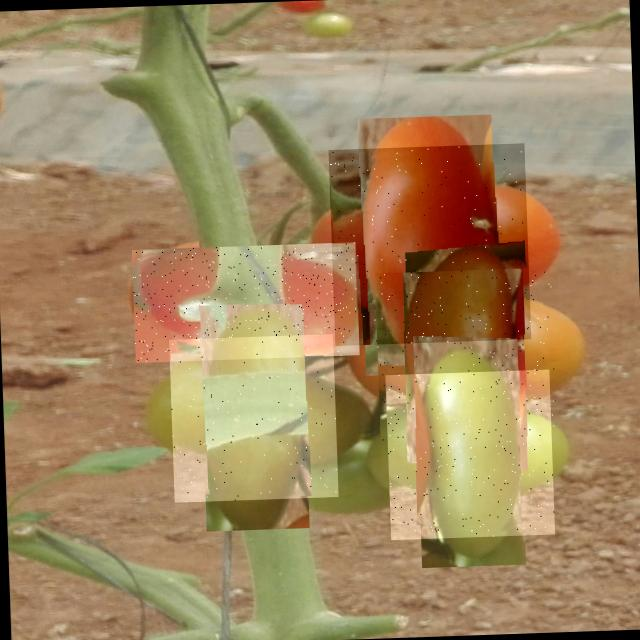Ripe Tomato: (328, 143, 530, 346), (374, 267, 556, 449), (132, 242, 360, 362)
Unripe Tomato: (385, 369, 555, 540), (168, 333, 338, 502)
